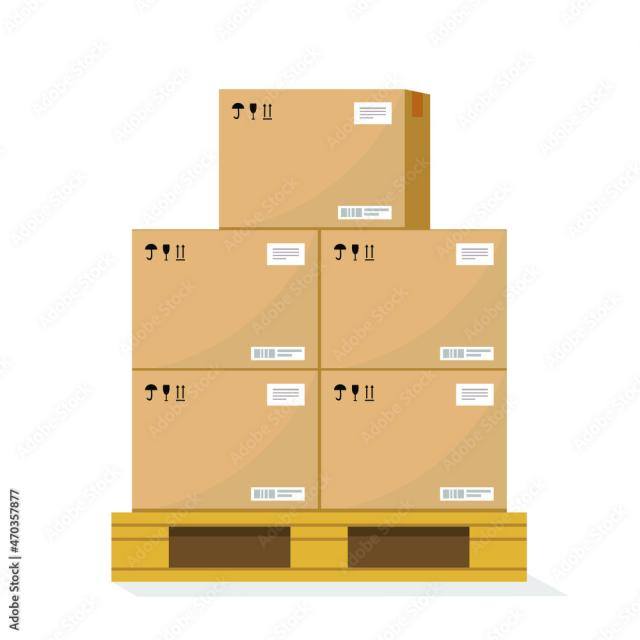box: (218, 87, 430, 229), (131, 227, 322, 370), (131, 370, 318, 510), (321, 370, 508, 510), (322, 230, 507, 368)
